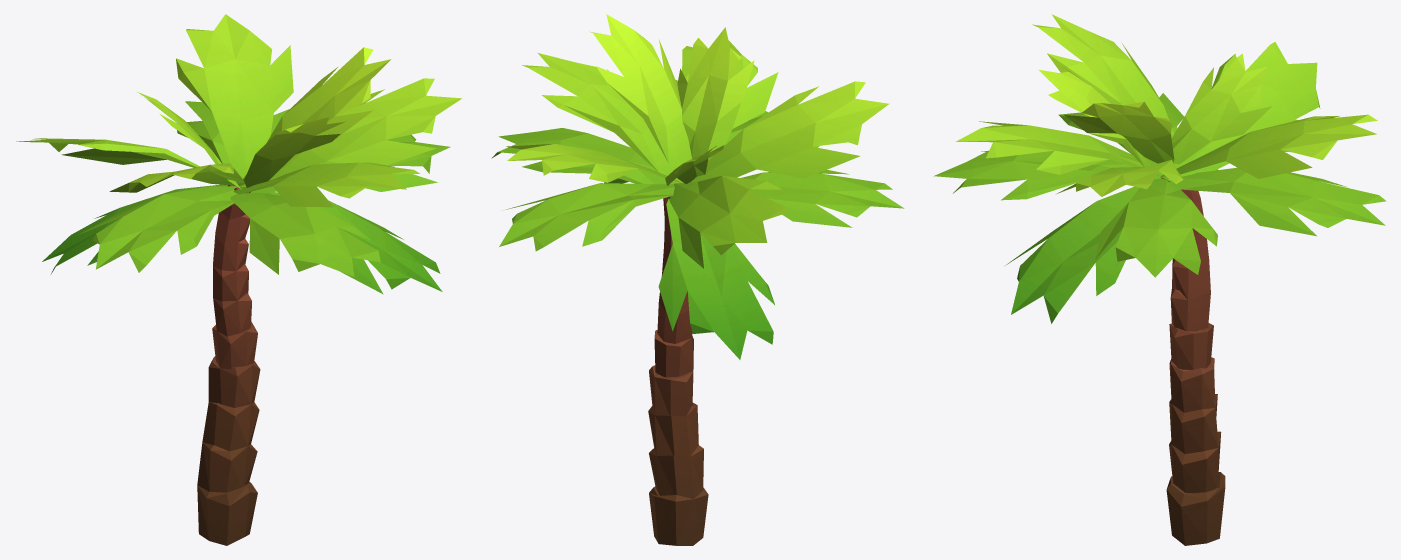
3 views of the same model, side by side, from view 1: azimuth 30°, elevation 25°; view 2: azimuth 150°, elevation 25°; view 3: azimuth 270°, elevation 25° (orthographic). The views are drawn at different scales.
Parts seen in each view (by area): view 1: Palmtree1_low; view 2: Palmtree1_low; view 3: Palmtree1_low.
Part boxes in pixels (x1,y1,x2,y2): Palmtree1_low: (16,14,461,545); Palmtree1_low: (491,14,904,545); Palmtree1_low: (933,14,1386,545).
Bounding box in the file's own units: 507 × 600 × 499.
Materials: 1 (1 with a texture image).
